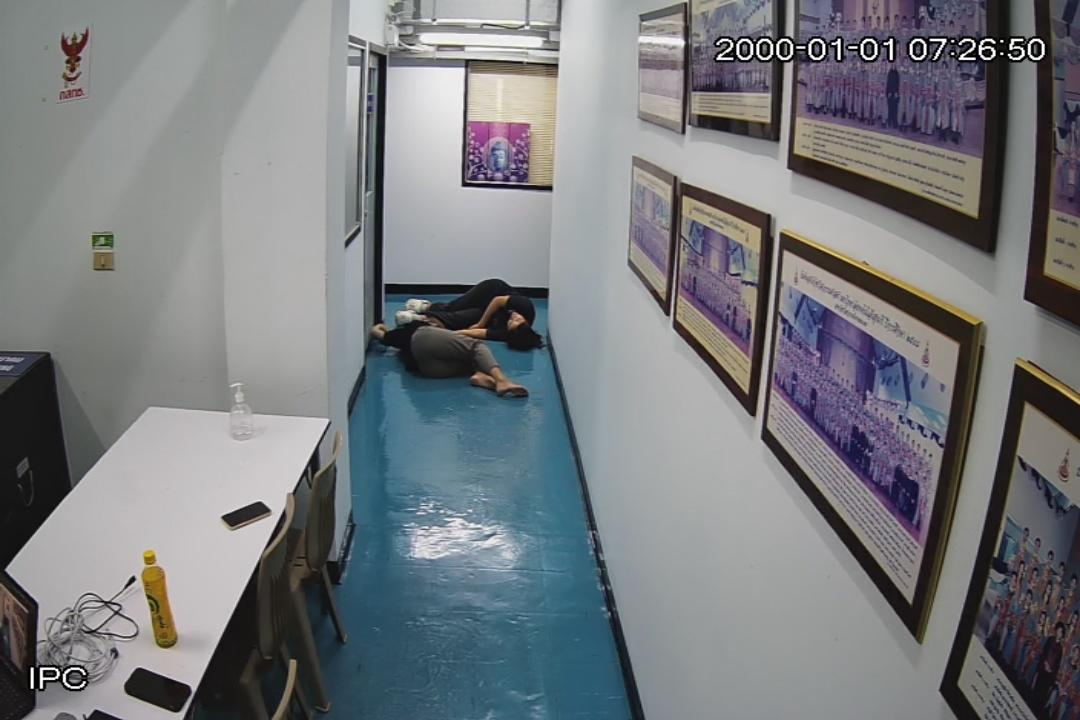fall: (367, 316, 529, 401), (396, 279, 534, 341)
